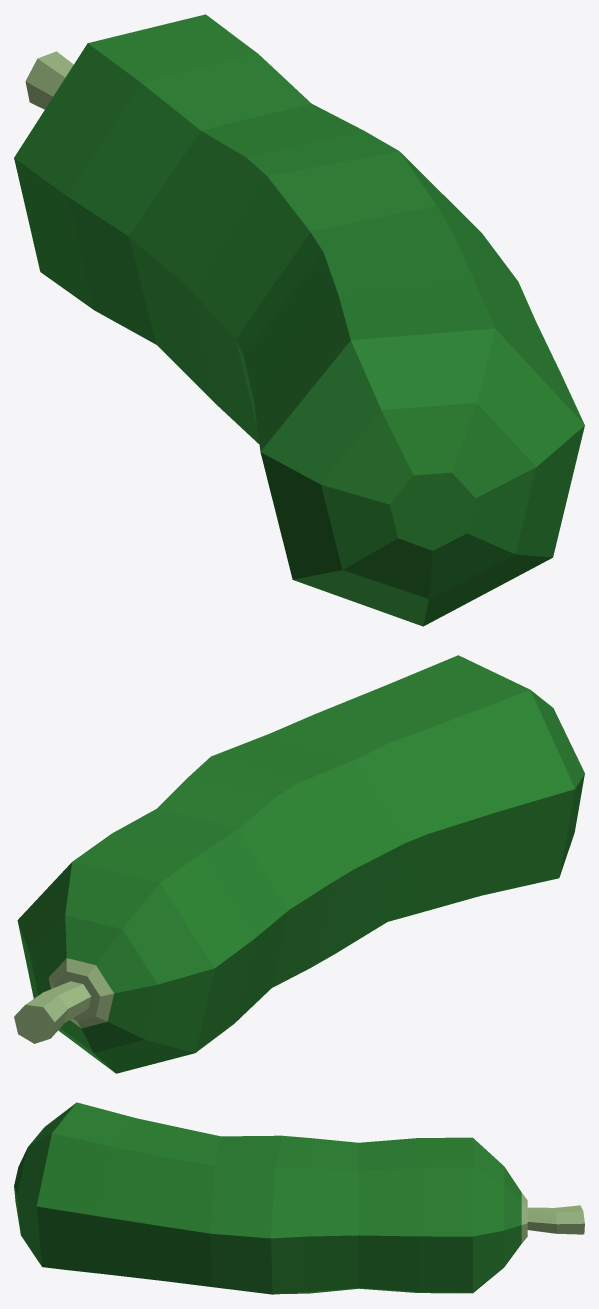
Rendered from cucumber.glb.
3 renders of one model, top to bottom at view 1: azimuth 30°, elevation 25°; view 2: azimuth 150°, elevation 25°; view 3: azimuth 270°, elevation 25°, orthographic. The views are drawn at different scales.
Parts seen in each view (by area): view 1: Cylinder, Cylinder.001; view 2: Cylinder, Cylinder.001; view 3: Cylinder, Cylinder.001.
Boxes of the visible parts, x1,y1,x2,y2 form: Cylinder: (14,14,584,626); Cylinder.001: (25,51,73,109); Cylinder: (17,655,584,1073); Cylinder.001: (14,958,113,1043); Cylinder: (14,1102,521,1294); Cylinder.001: (521,1193,584,1243).
Bounding box in the file's own units: 2.21 × 1.57 × 5.35.
